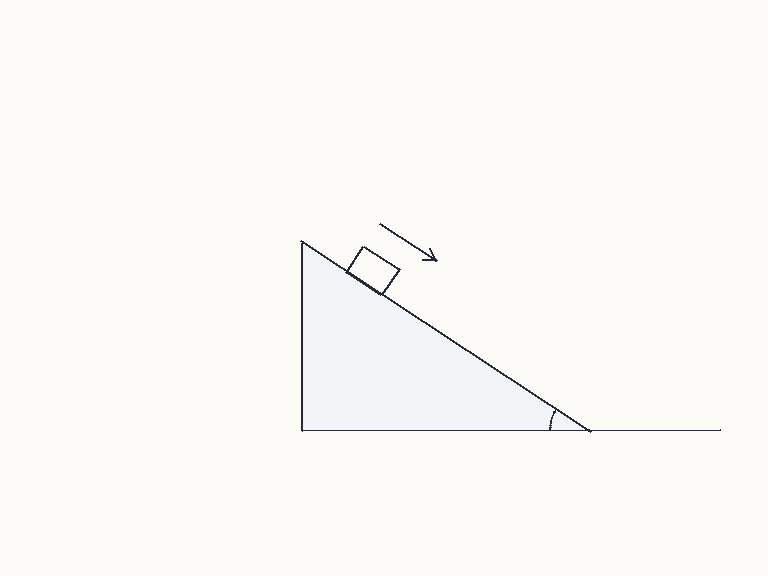block: (344, 244, 400, 296)
ramp: (300, 241, 592, 432)
